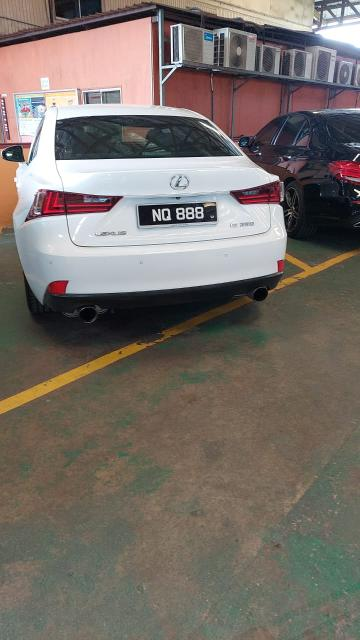License_Plate: (142, 206, 221, 227)
car: (1, 105, 287, 333)
